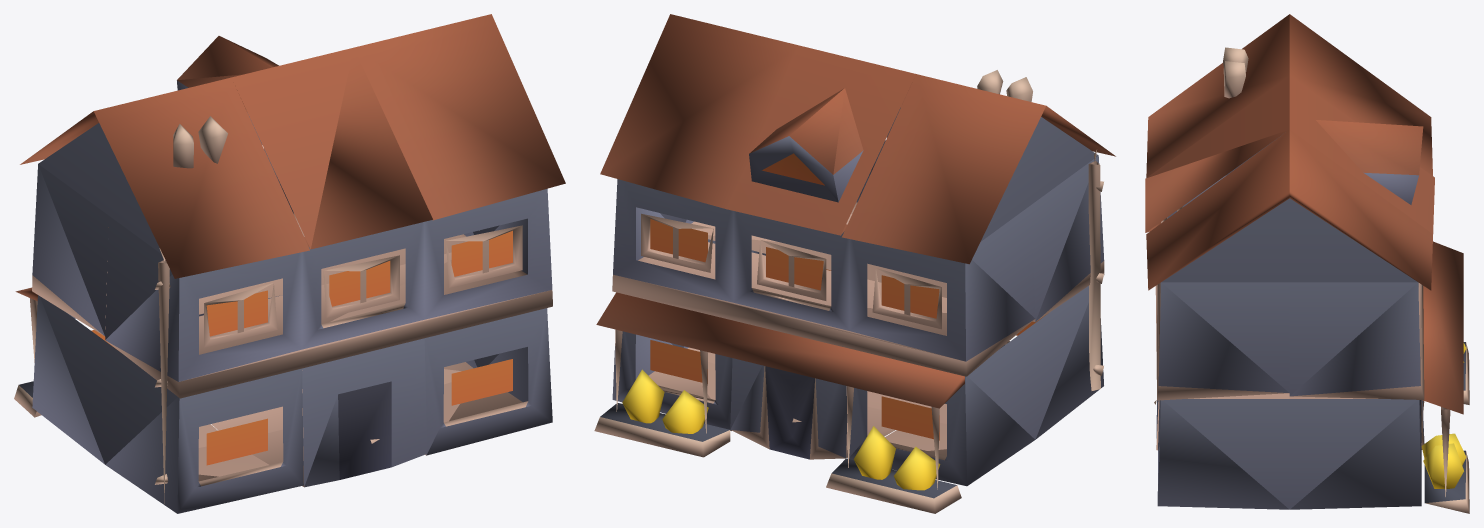
The model's file is casa_e.fbx.
3 views of the same model, side by side, from view 1: azimuth 30°, elevation 25°; view 2: azimuth 150°, elevation 25°; view 3: azimuth 270°, elevation 25° (orthographic). The views are drawn at different scales.
Visible parts, largest first — view 1: casa_e; view 2: casa_e; view 3: casa_e.
Boxes of the visible parts, left/top/right/bottom form: casa_e: left=14, top=14, right=565, bottom=513; casa_e: left=594, top=14, right=1115, bottom=513; casa_e: left=1145, top=14, right=1469, bottom=513.
Bounding box in the file's own units: 1.3 × 1.14 × 1.01.
